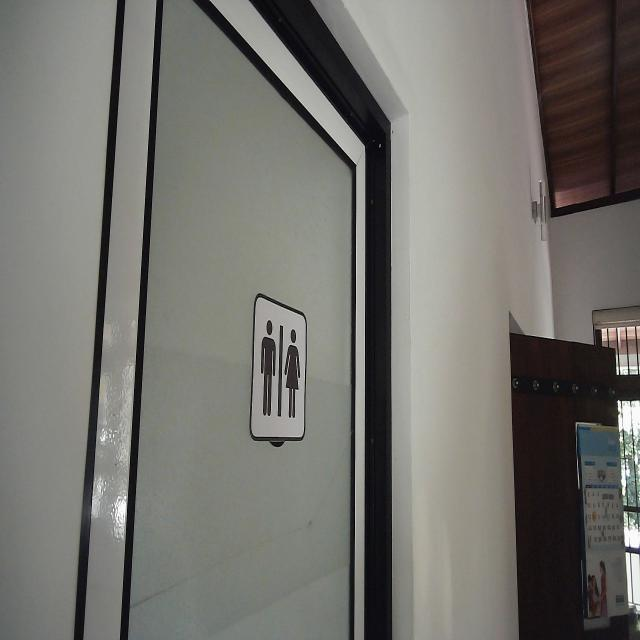restroom: (248, 289, 309, 445)
